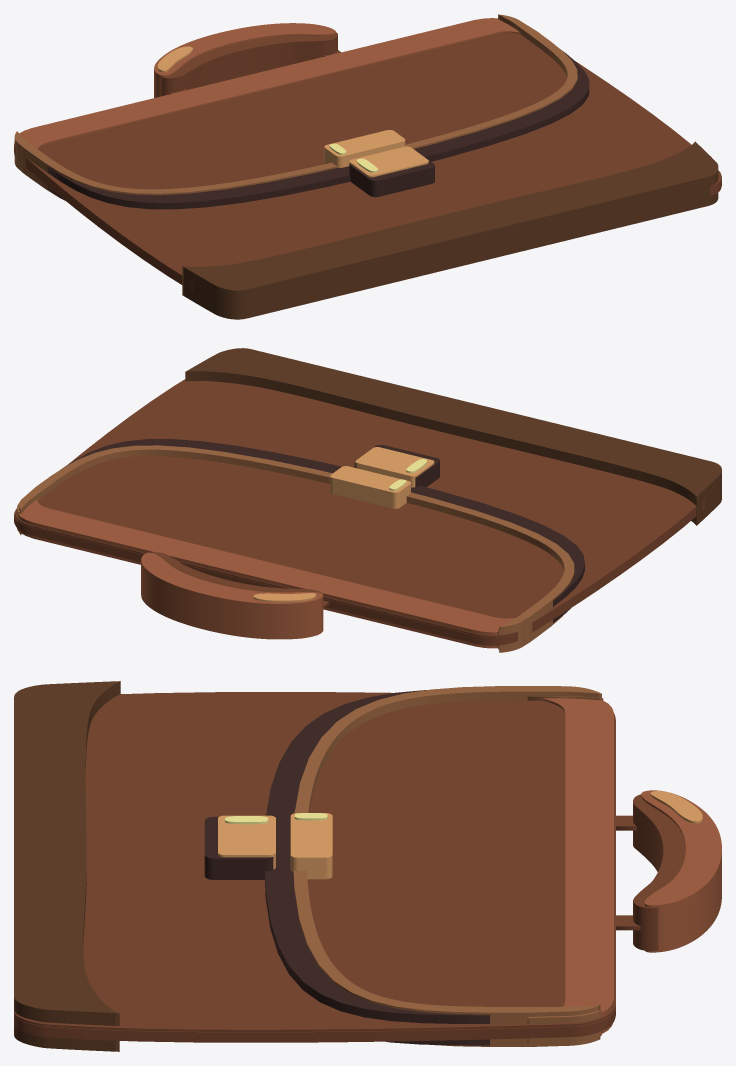
File: emoji_u1f4bc.glb
3 views of the same model, one above another, from view 1: azimuth 30°, elevation 25°; view 2: azimuth 150°, elevation 25°; view 3: azimuth 270°, elevation 25° (orthographic). The views are drawn at different scales.
Visible parts, largest first — view 1: emoji_u1f4bc; view 2: emoji_u1f4bc; view 3: emoji_u1f4bc.
Boxes of the visible parts, x1,y1,x2,y2 form: emoji_u1f4bc: [14, 14, 721, 319]; emoji_u1f4bc: [14, 348, 721, 652]; emoji_u1f4bc: [14, 681, 721, 1051].
Bounding box in the file's own units: 0.0338 × 0.003 × 0.0299.
